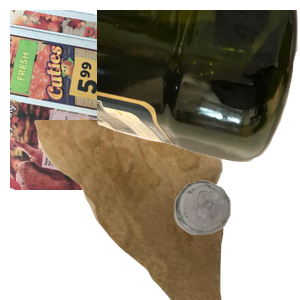glass: (172, 178, 300, 300)
paper: (10, 10, 250, 190)
plastic: (97, 10, 300, 165)
trash: (32, 120, 248, 300)
